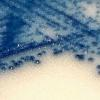Blue: (75, 54, 85, 62), (86, 57, 95, 64), (94, 63, 100, 70), (34, 60, 41, 65), (95, 69, 100, 76), (37, 52, 42, 58), (9, 66, 14, 70)
